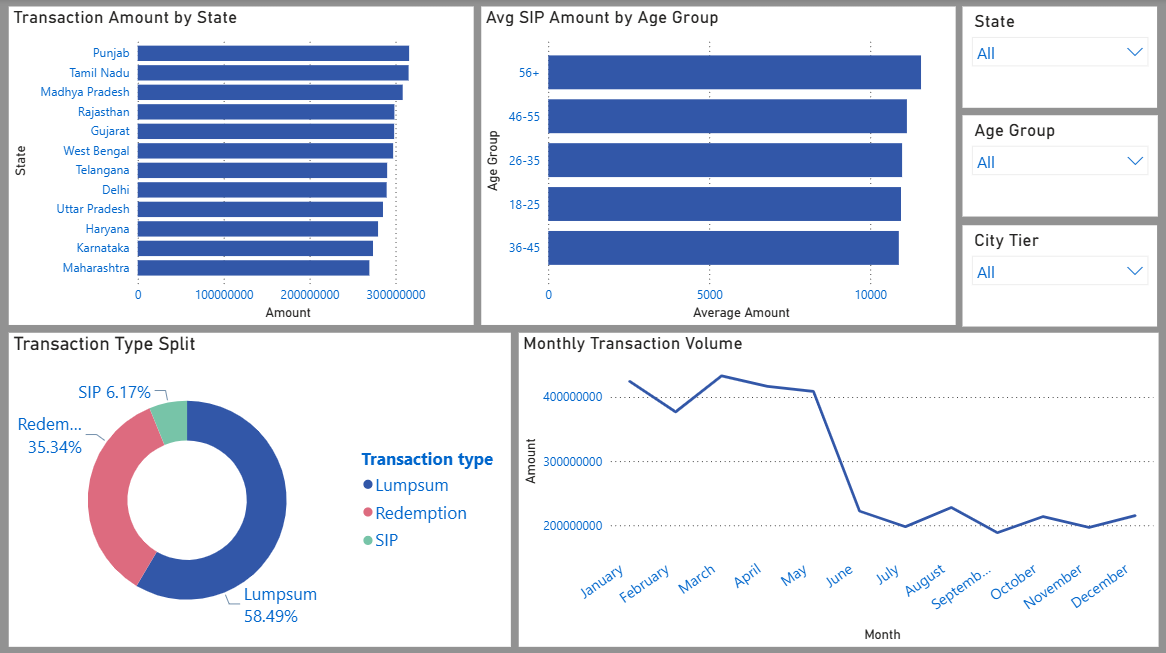

The dashboard page shown, as its layout file describes it:
{"tool":"powerbi","page":{"name":"Investor Analytics","canvas":[1280,720],"ordinal":2},"visuals":[{"type":"clusteredBarChart","title":"Transaction Amount by State","fields":{"Category":["clean_transactions.state"],"Y":["Sum(clean_transactions.amount_inr)"]},"box":[8.9,8.3,510,349.2],"z":0},{"type":"donutChart","title":"Transaction Type Split","fields":{"Category":["clean_transactions.transaction_type"],"Y":["Sum(clean_transactions.amount_inr)"]},"box":[9.2,366.2,551,345],"z":1000},{"type":"clusteredBarChart","title":"Avg SIP Amount by Age Group","fields":{"Category":["clean_transactions.age_group"],"Y":["Avg(clean_transactions.amount_inr)"]},"box":[527.7,7.7,521,349.2],"z":2000},{"type":"lineChart","title":"Monthly Transaction Volume","fields":{"Category":["clean_transactions.transaction_date.Variation.Date Hierarchy.Month"],"Y":["Sum(clean_transactions.amount_inr)"]},"box":[569.2,366.2,702,344.6],"z":3000},{"type":"slicer","fields":{"Values":["clean_transactions.state"]},"box":[1056.9,7.7,213.8,111],"z":4000},{"type":"slicer","fields":{"Values":["clean_transactions.age_group"]},"box":[1056.6,127.6,214.1,111.1],"z":5000},{"type":"slicer","fields":{"Values":["clean_transactions.state"]},"box":[1056.9,247.7,213.8,111],"z":6000}]}

Visuals, with their boxes in screenshot pixels (x1, y1, x2, y2), scaled from the page's 1280x720 canvas onto the 1166x653 screenshot:
"Transaction Amount by State" clusteredBarChart: 8,8,473,324
"Transaction Type Split" donutChart: 8,332,510,645
"Avg SIP Amount by Age Group" clusteredBarChart: 481,7,955,324
"Monthly Transaction Volume" lineChart: 519,332,1158,645
slicer - clean_transactions.state: 963,7,1158,108
slicer - clean_transactions.age_group: 962,116,1158,216
slicer - clean_transactions.state: 963,225,1158,325
